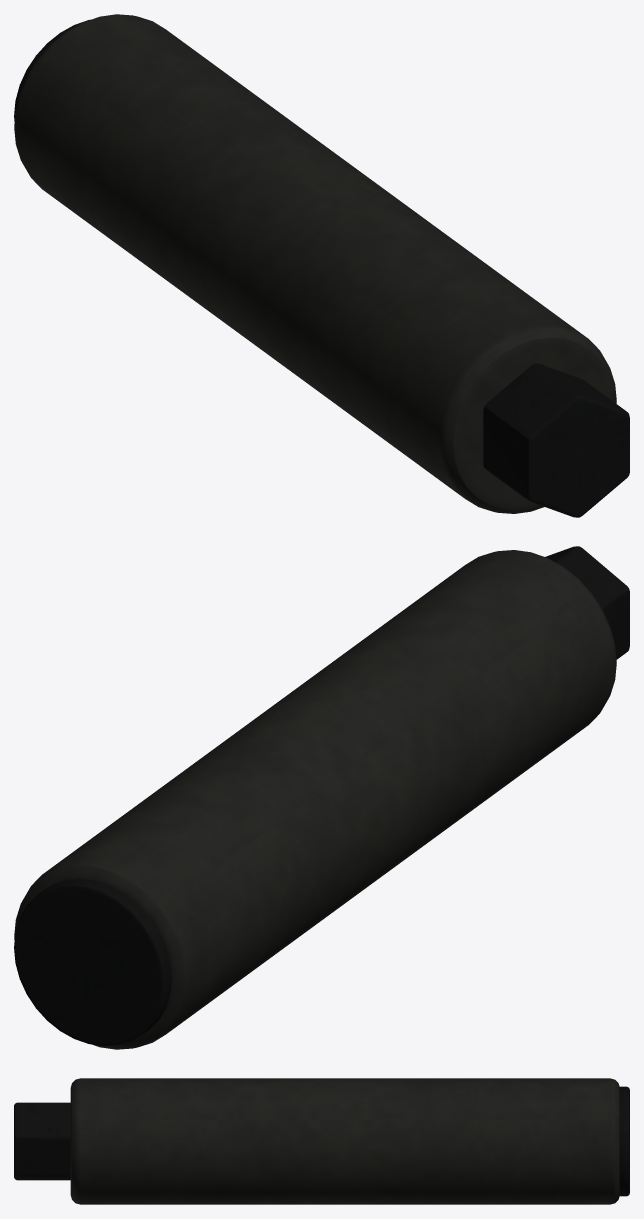
The model's file is suppressor.gltf.
3 renders of one model, top to bottom at view 1: azimuth 30°, elevation 25°; view 2: azimuth 150°, elevation 25°; view 3: azimuth 270°, elevation 25°, orthographic. The views are drawn at different scales.
Parts seen in each view (by area): view 1: Body; view 2: Body; view 3: Body.
Part boxes in pixels (x1,y1,x2,y2): Body: [14, 14, 629, 517]; Body: [14, 546, 629, 1049]; Body: [14, 1078, 629, 1204].
Size of the model in its own units: 0.038 by 0.038 by 0.185.
2 materials, 2 textured.
